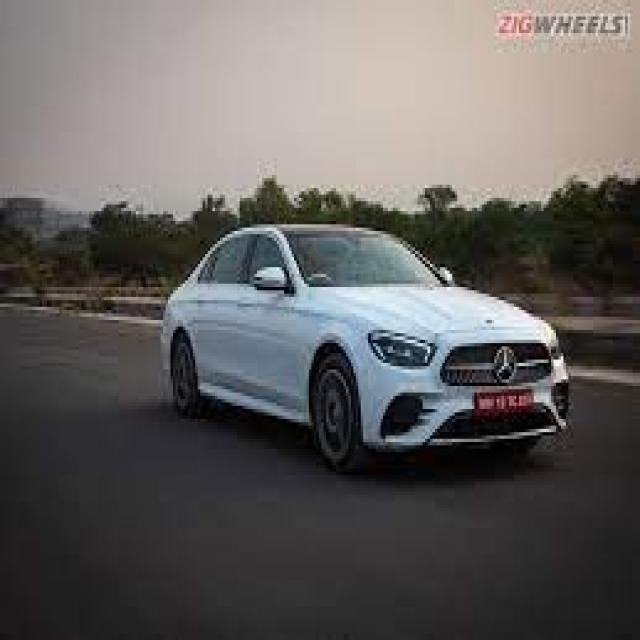Car: (134, 200, 586, 470)
